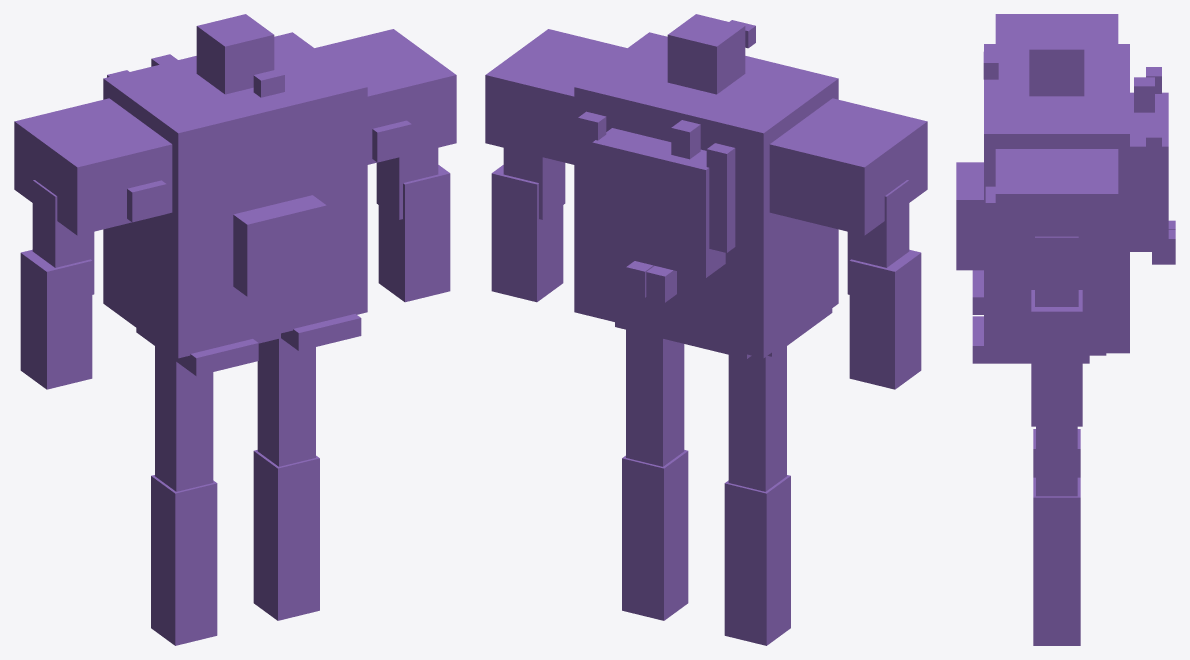
The model's file is mechfall_timber_wolf.obj.
The picture shows the model from 3 angles, left to right: view 1: azimuth 30°, elevation 25°; view 2: azimuth 150°, elevation 25°; view 3: azimuth 270°, elevation 25°; orthographic projection. The views are drawn at different scales.
Visible parts, largest first — view 1: mechfall_timber_wolf; view 2: mechfall_timber_wolf; view 3: mechfall_timber_wolf.
Boxes of the visible parts, left/top/right/bottom form: mechfall_timber_wolf: left=14, top=14, right=456, bottom=645; mechfall_timber_wolf: left=485, top=14, right=927, bottom=645; mechfall_timber_wolf: left=956, top=14, right=1175, bottom=645.
Size of the model in its own units: 5.63 by 7.85 by 2.72.
